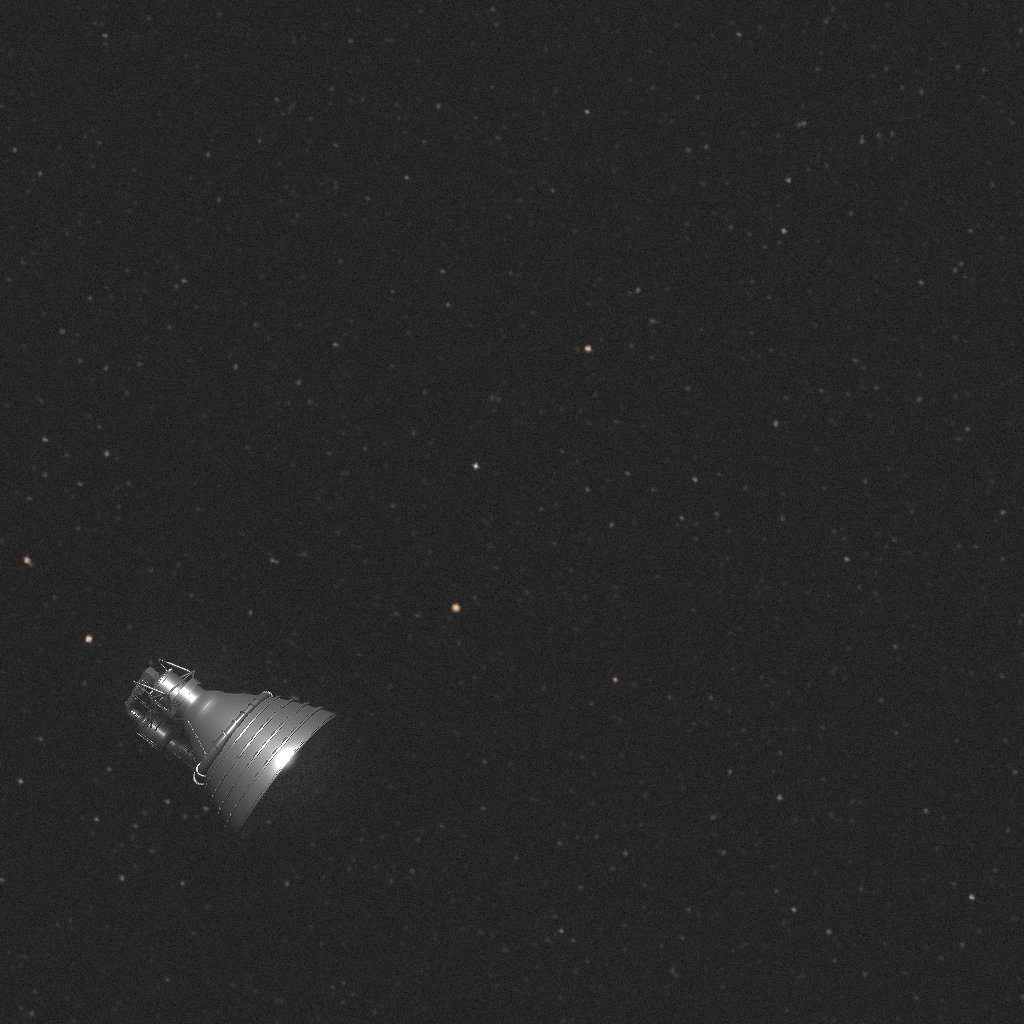debris: (133, 662, 316, 830)
